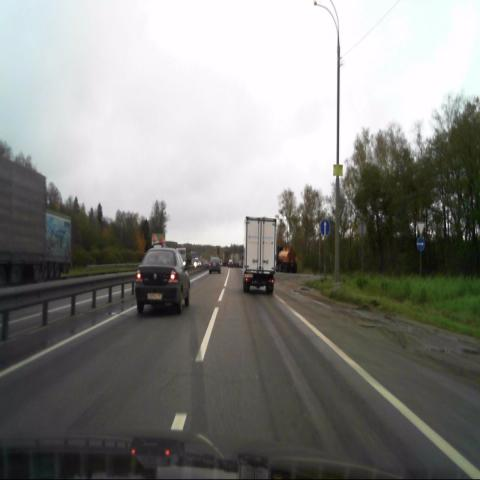2_4: (415, 221, 425, 236)
4_1_1: (320, 220, 330, 236)
4_1_2_1: (417, 237, 424, 251)
